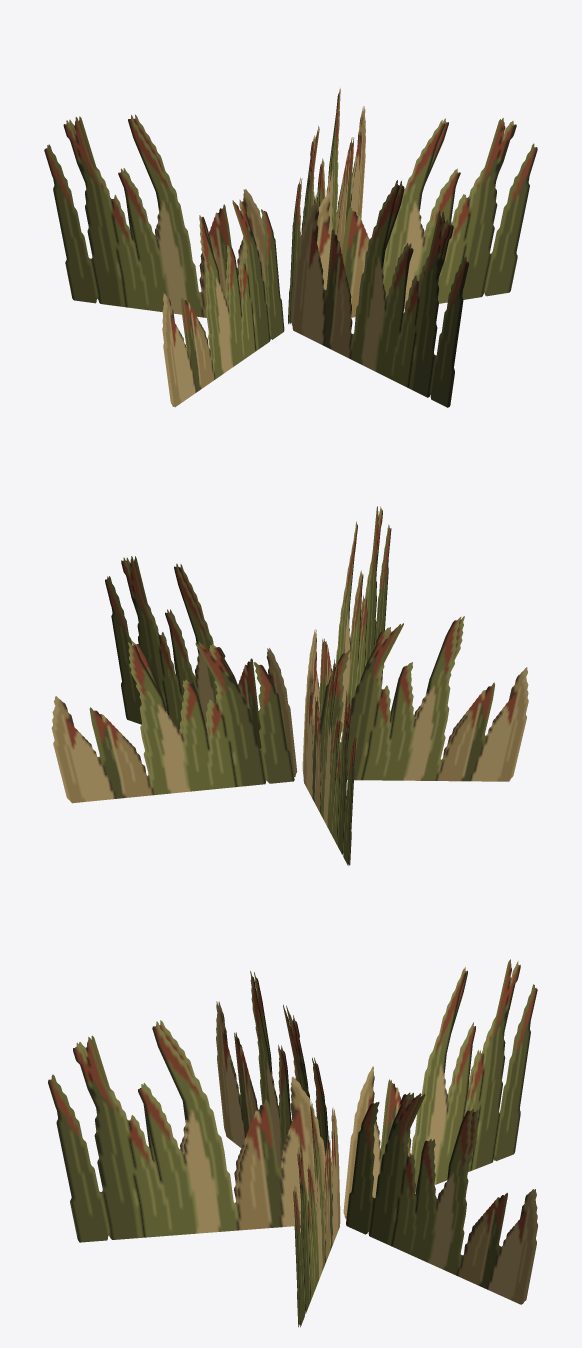
Rendered from SM_VG04_GrassLow.fbx.
The picture shows the model from 3 angles, top to bottom: view 1: azimuth 30°, elevation 25°; view 2: azimuth 150°, elevation 25°; view 3: azimuth 270°, elevation 25°; orthographic projection. The views are drawn at different scales.
Visible parts, largest first — view 1: VG04_Grass; view 2: VG04_Grass; view 3: VG04_Grass.
Boxes of the visible parts, x1=… form: VG04_Grass: x1=44, y1=88, x2=537, y2=407; VG04_Grass: x1=51, y1=506, x2=528, y2=865; VG04_Grass: x1=48, y1=959, x2=537, y2=1327.
Bounding box in the file's own units: 0.4363 × 0.21 × 0.419.
